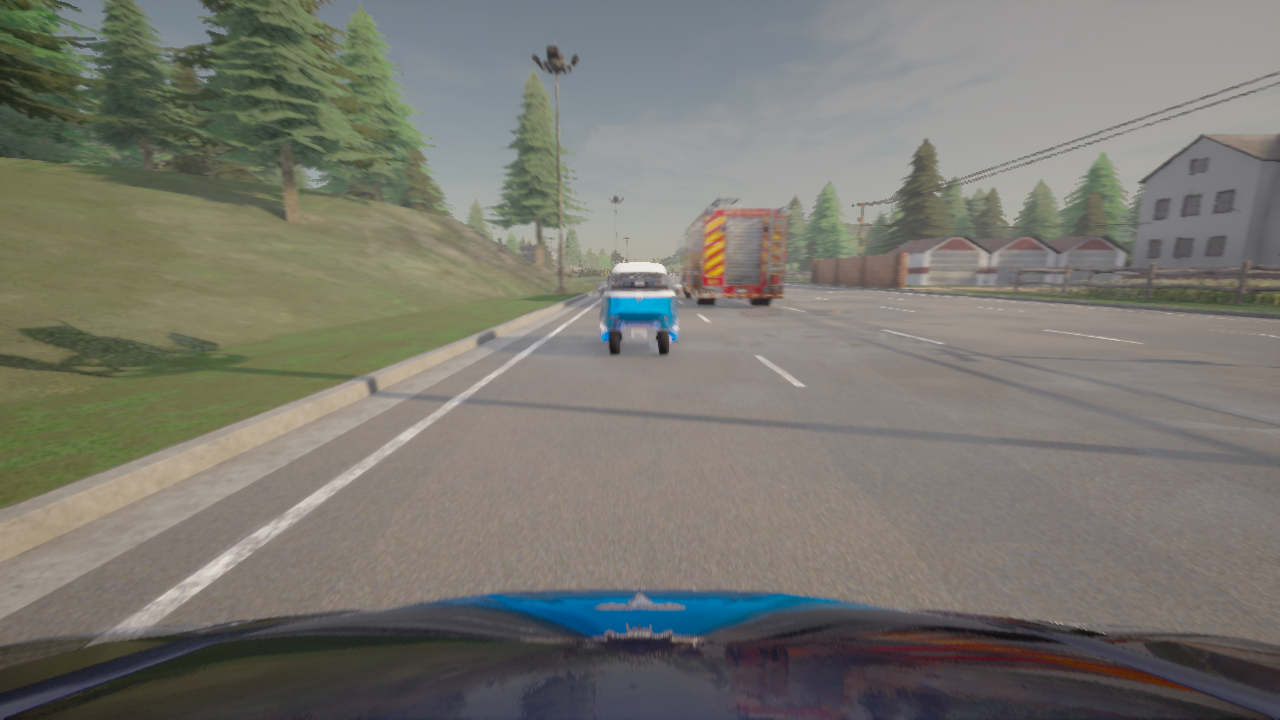cyclist: (0, 588, 1279, 719), (677, 194, 785, 305), (597, 263, 681, 355), (607, 274, 611, 282)
